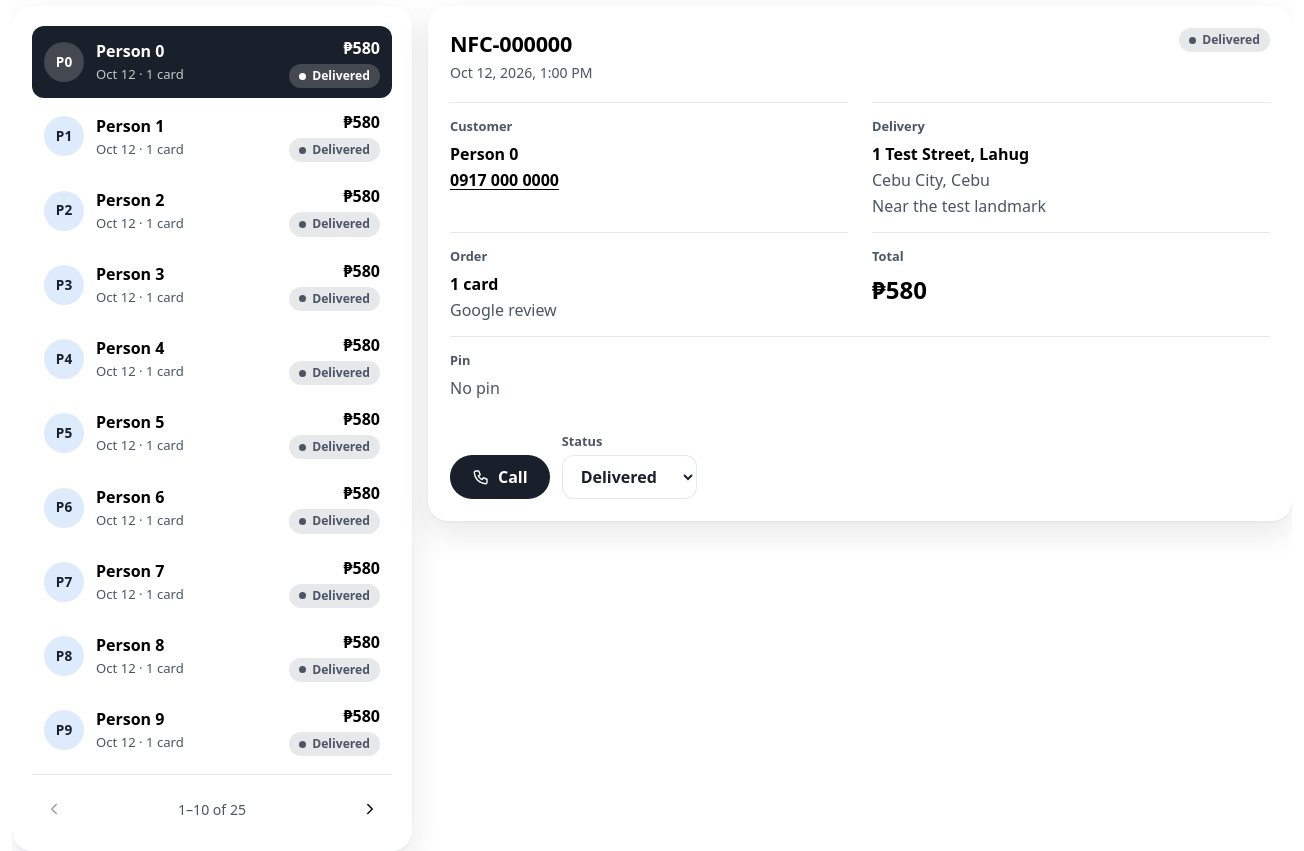
Test: OrdersPage › with more orders than fit on a page › shows ten to a page and says which ones
The image size is (1304, 851).
(page scrolled)
expect the navigation bar named "Pagination" reads "1–10 of 25": met, box top-left (178, 800), bottom-right (246, 819)
expect the button named "Previous page" is disabled: met, box top-left (32, 787), bottom-right (76, 831)
Click the button named "Next page": (370, 809) top-left (348, 787), bottom-right (392, 831)
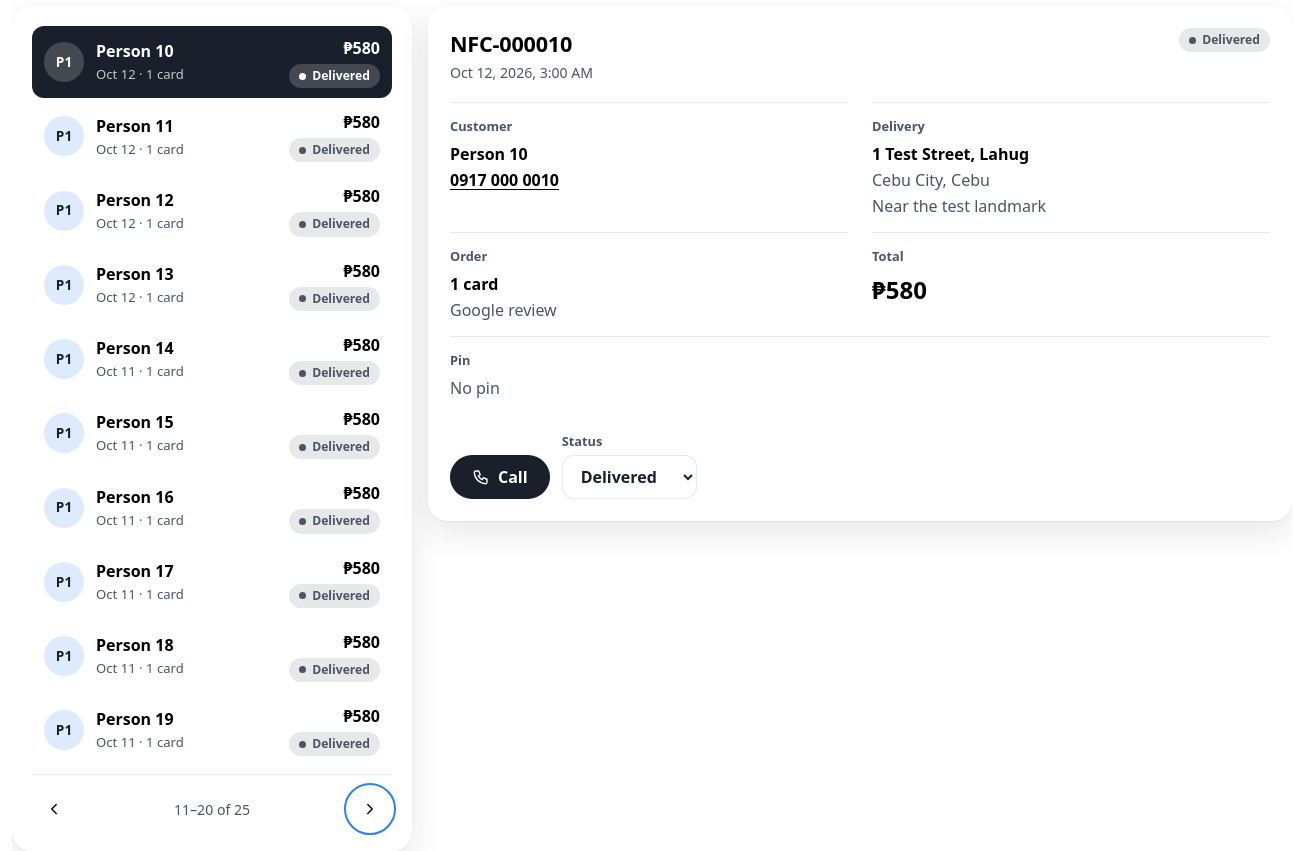
expect the navigation bar named "Pagination" reads "11–20 of 25": met, box top-left (174, 800), bottom-right (250, 819)
expect the heading "NFC-000010" is shown: met, box top-left (450, 28), bottom-right (593, 60)
Click the button named "Next page": (370, 809) top-left (348, 787), bottom-right (392, 831)
(page scrolled)
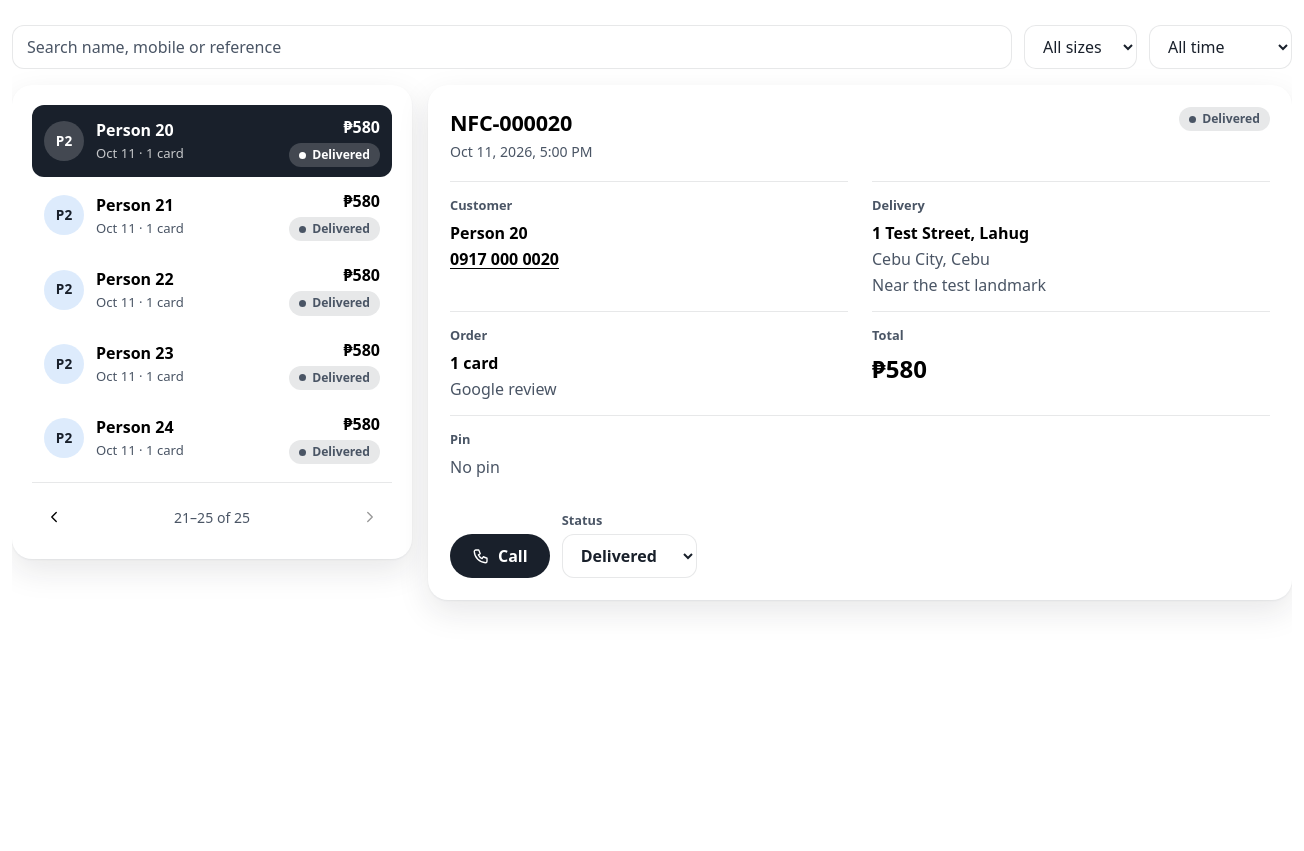
expect the navigation bar named "Pagination" reads "21–25 of 25": met, box top-left (174, 508), bottom-right (250, 527)
expect the button named "Next page" is disabled: met, box top-left (348, 495), bottom-right (392, 539)
